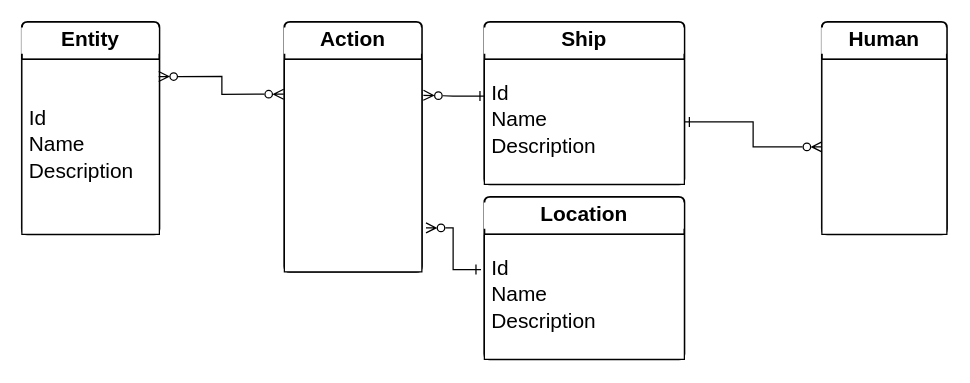
Some shapes in this 970 by 383 pixel diagram are drawn without their labels. Here are the shapes that lost their labels. From the top down, the centre of each, then its label:
At [352,165]: "Id Name Description Ship_Id Time Location_Id Result".
At [884,146]: "Id Name Age Major Sex Ship_Id".
